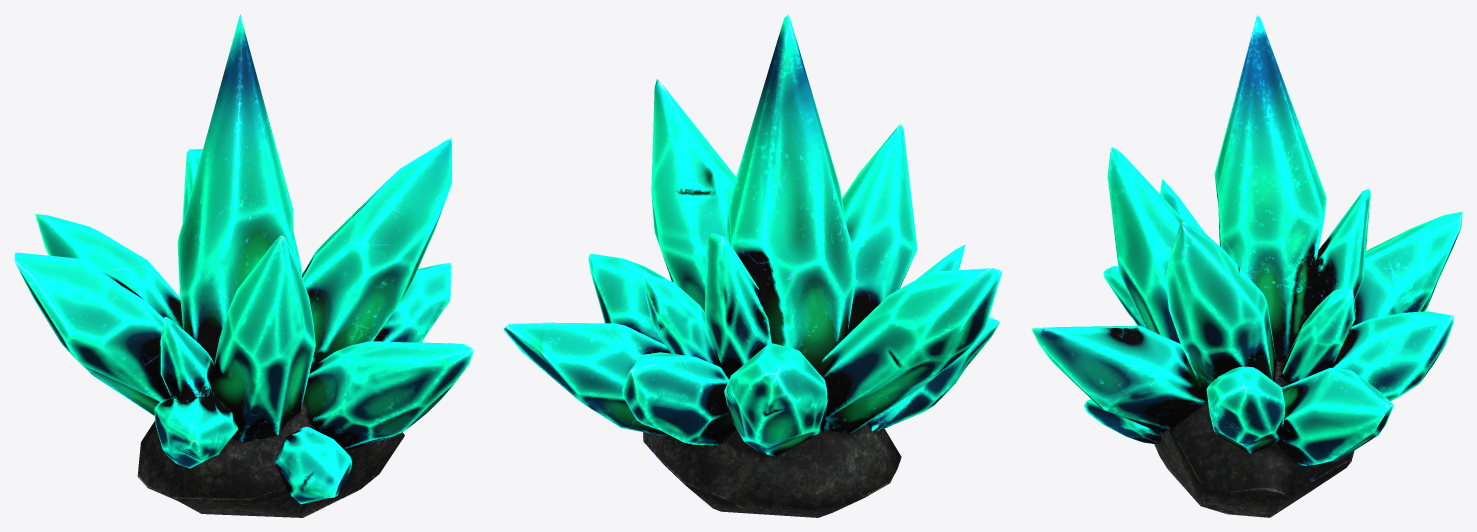
The model's file is crystal_01.glb.
The picture shows the model from 3 angles, left to right: view 1: azimuth 30°, elevation 25°; view 2: azimuth 150°, elevation 25°; view 3: azimuth 270°, elevation 25°; orthographic projection. The views are drawn at different scales.
Parts seen in each view (by area): view 1: polySurface1_standardSurface1_0; view 2: polySurface1_standardSurface1_0; view 3: polySurface1_standardSurface1_0.
Part boxes in pixels (x1,y1,x2,y2): polySurface1_standardSurface1_0: (14,14,474,517); polySurface1_standardSurface1_0: (503,14,1002,517); polySurface1_standardSurface1_0: (1031,14,1462,517).
Size of the model in its own units: 3.72 by 3.95 by 3.36.
Materials: 1 (1 with a texture image).
